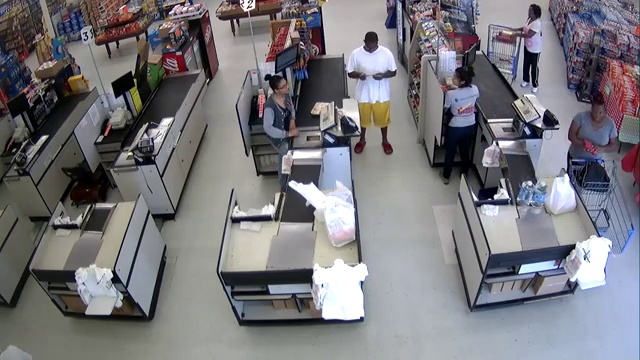face: (591, 103, 605, 121), (275, 79, 290, 95), (451, 71, 463, 87), (365, 41, 378, 53)
